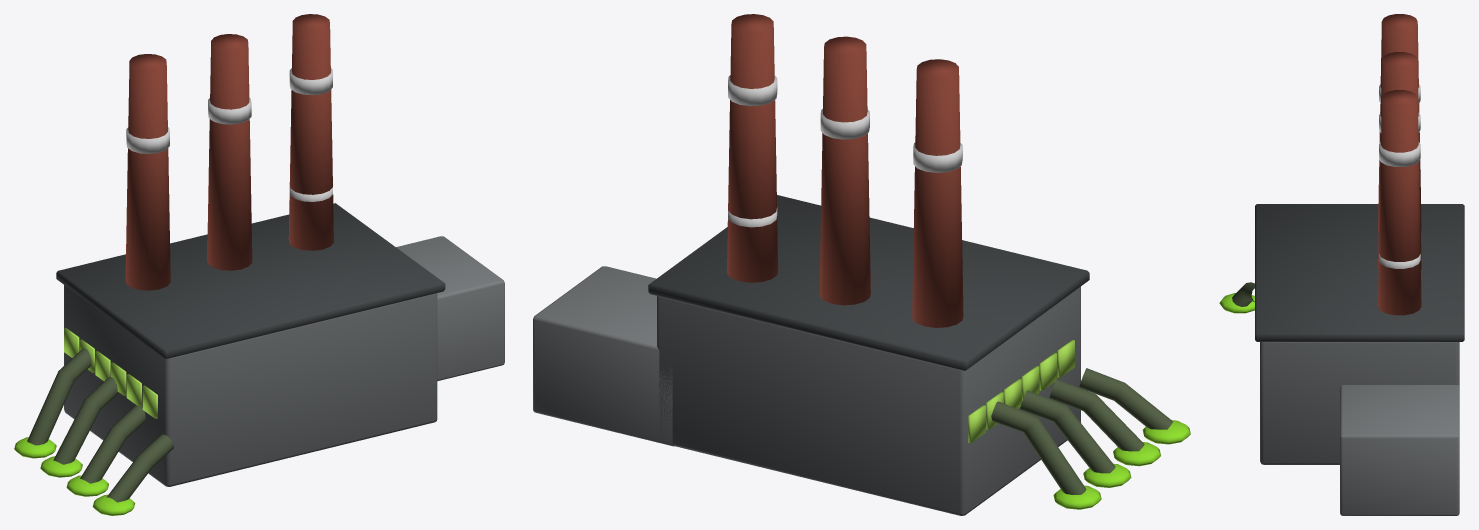
Rendered from factory.glb.
3 views of the same model, side by side, from view 1: azimuth 30°, elevation 25°; view 2: azimuth 150°, elevation 25°; view 3: azimuth 270°, elevation 25° (orthographic). The views are drawn at different scales.
Visible parts, largest first — view 1: Factory, Glow; view 2: Factory, Glow; view 3: Factory, Glow.
Part boxes in pixels (bbox=[...]): Factory: bbox=[27, 14, 504, 502]; Glow: bbox=[14, 437, 135, 515]; Factory: bbox=[533, 14, 1173, 515]; Glow: bbox=[1053, 420, 1190, 509]; Factory: bbox=[1232, 14, 1464, 515]; Glow: bbox=[1219, 293, 1254, 313].
Size of the model in its own units: 50.98 by 38 by 24.58.
